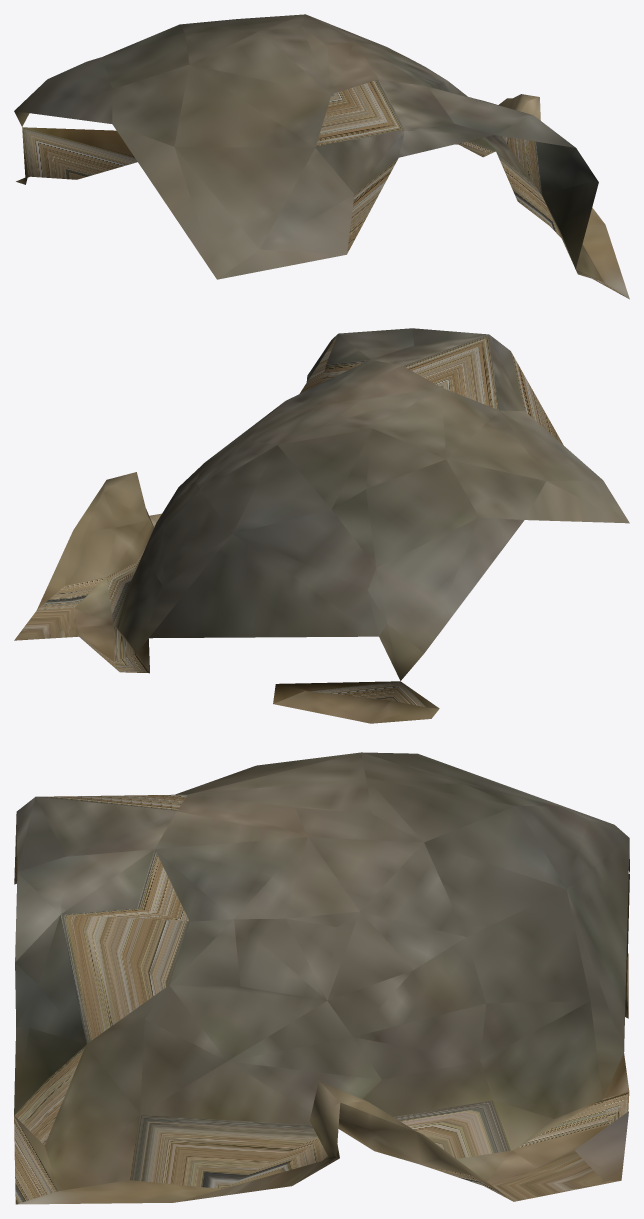
The model's file is pebble_01.obj.
3 views of the same model, one above another, from view 1: azimuth 30°, elevation 25°; view 2: azimuth 150°, elevation 25°; view 3: azimuth 270°, elevation 25° (orthographic). The views are drawn at different scales.
Visible parts, largest first — view 1: pebble_01; view 2: pebble_01; view 3: pebble_01.
Boxes of the visible parts, left/top/right/bottom form: pebble_01: left=14, top=14, right=629, bottom=299; pebble_01: left=14, top=328, right=629, bottom=723; pebble_01: left=14, top=752, right=629, bottom=1204.
Bounding box in the file's own units: 0.5994 × 0.3031 × 0.5988.
Materials: 1 (1 with a texture image).
